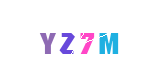7: (47, 0, 127, 80)
M: (69, 0, 149, 80)
Y: (17, 0, 97, 80)
Z: (39, 0, 119, 80)
